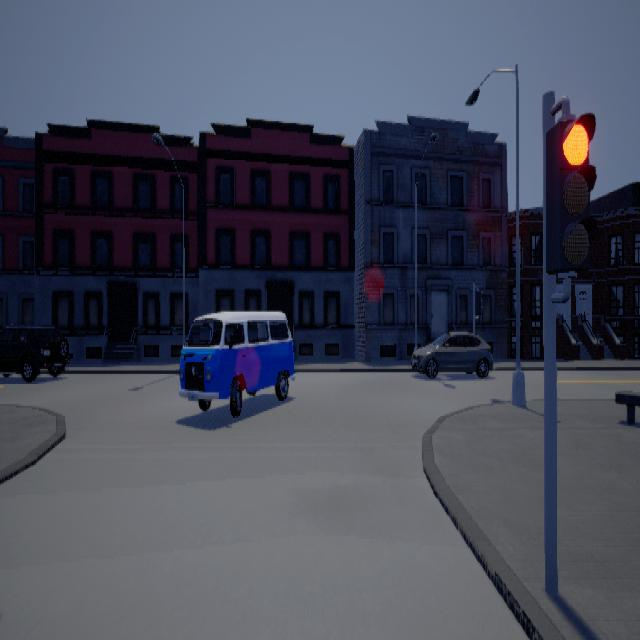red_light: (545, 95, 596, 302)
vehicle: (178, 310, 295, 416), (0, 322, 69, 381), (410, 330, 492, 377)
